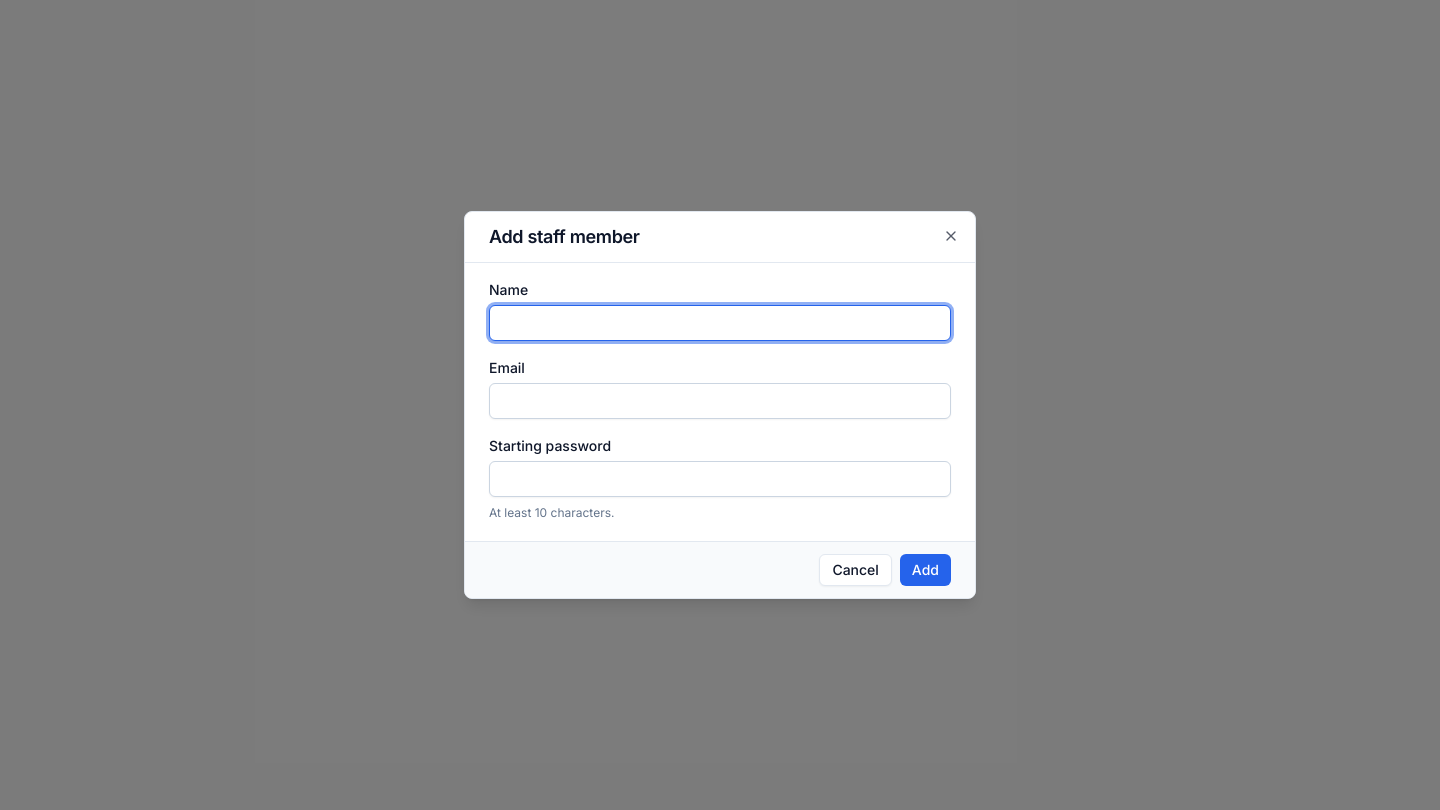
Test case: the add dialog › says it could not save when the shop cannot be reached, and lets the visitor press Add again
The width and height of the screenshot is (1440, 810).
Type "Lan Tran" into the field labelled "Name".
click(720, 323); type("Lan Tran")  # box left=489, top=305, right=951, bottom=341
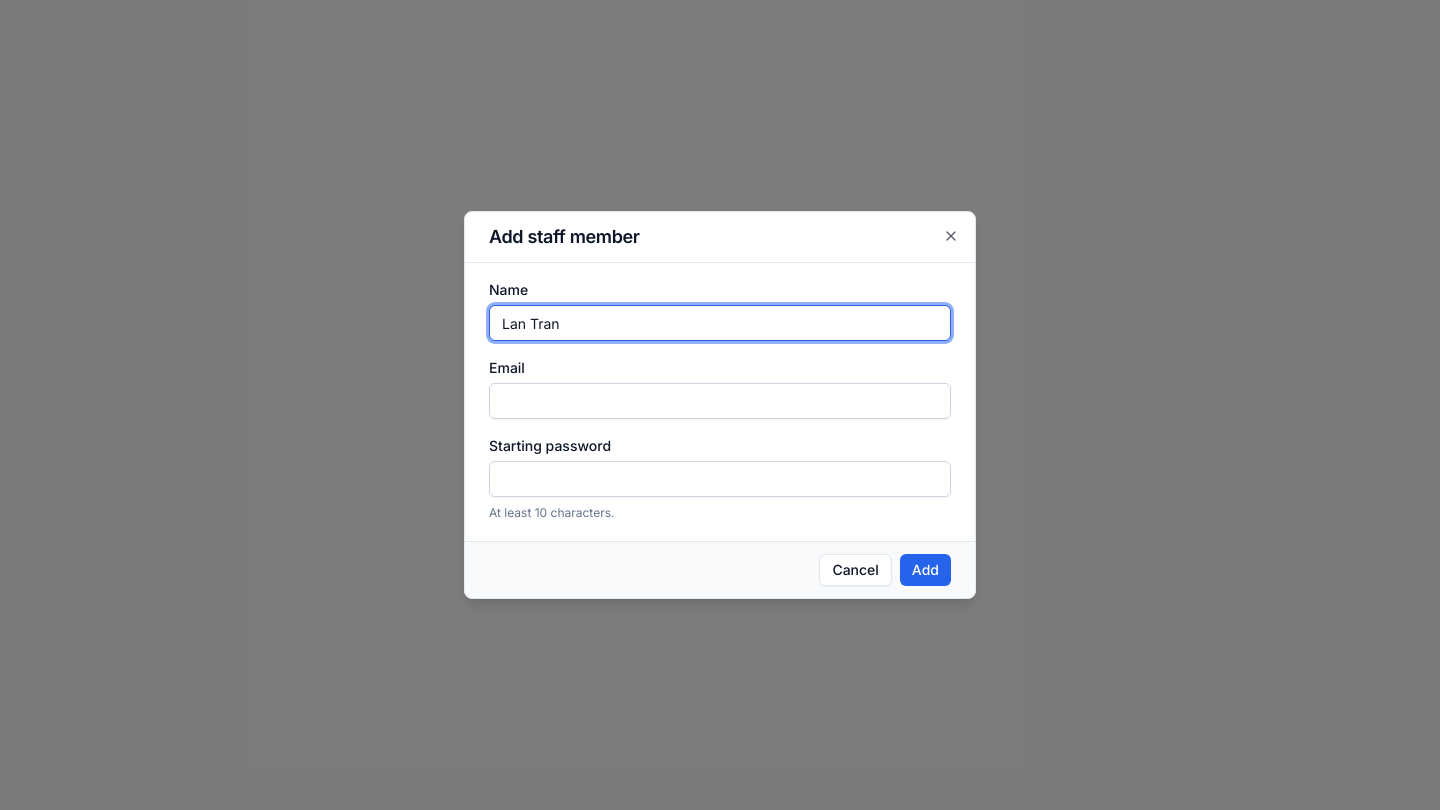
Click the button "Add".
click(925, 570)  # box left=900, top=554, right=951, bottom=586
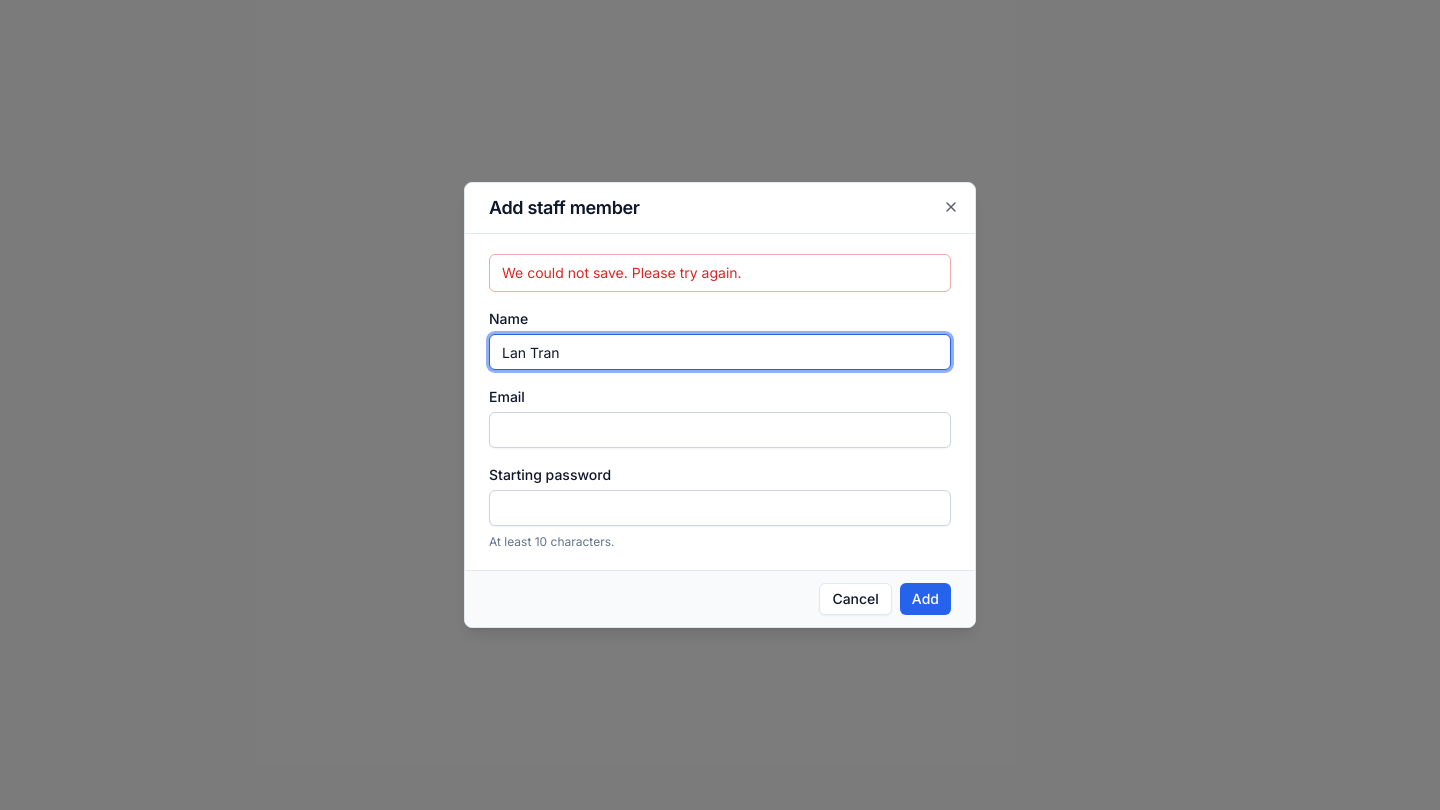
Check: the button "Add" is enabled, box left=900, top=583, right=951, bottom=615
Check: the text "We could not save. Please try again." is shown, box left=489, top=254, right=951, bottom=292
